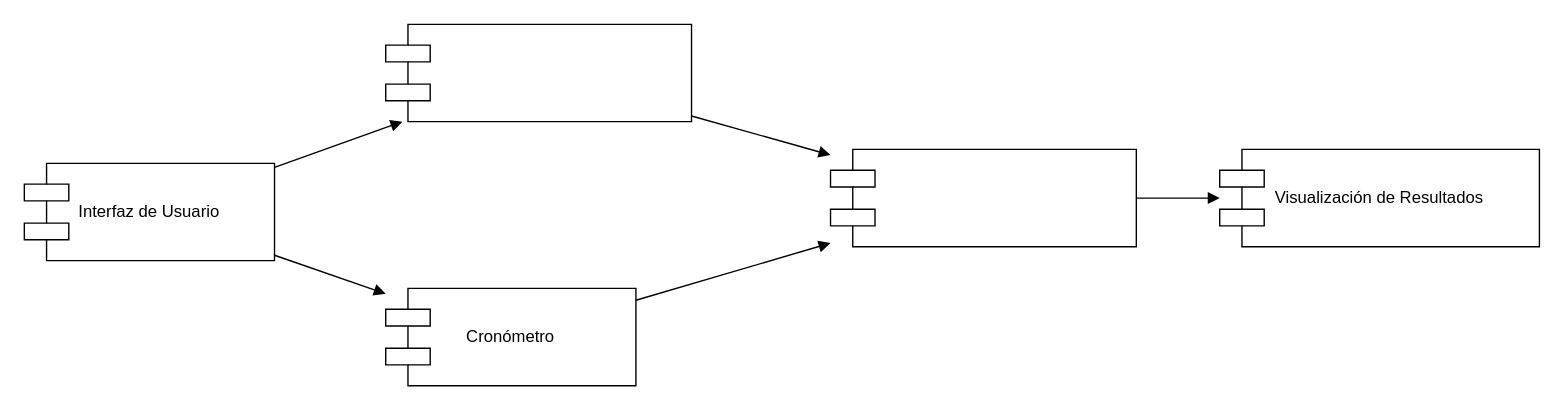
This 1564x410 diagram has some shape labels left out. The shapes that lost their labels are listed below. From the top down, each one's box as (x1, y1, x2, y2) in pixels, then its label:
(384, 23, 692, 122): Registro de Competidores
(829, 148, 1136, 247): Cálculo de Resultados
